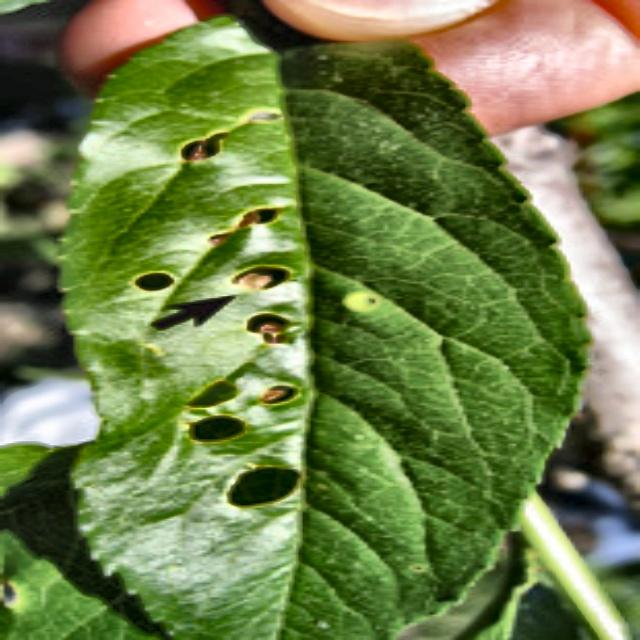shot_hole: (0, 162, 619, 496), (135, 70, 430, 249)
